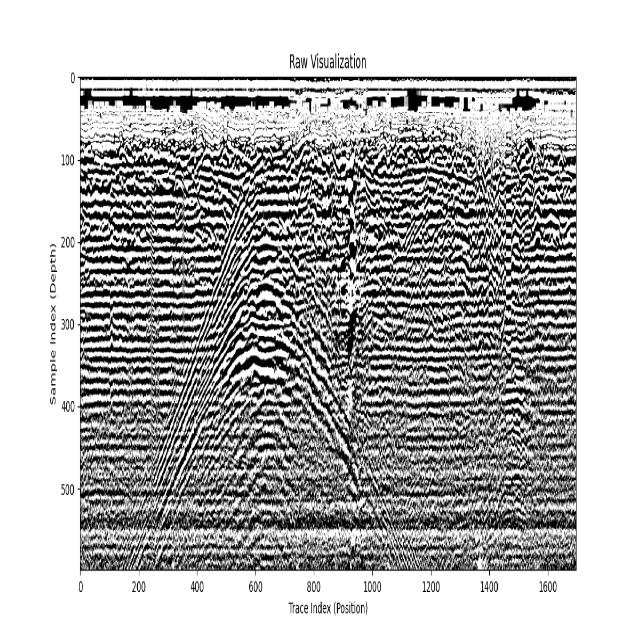anomaly: (118, 135, 431, 570)
